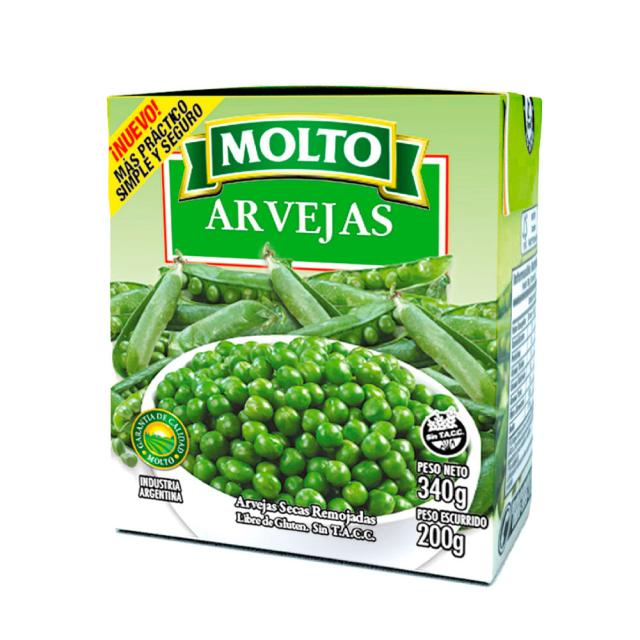arvejas: (163, 328, 409, 511)
